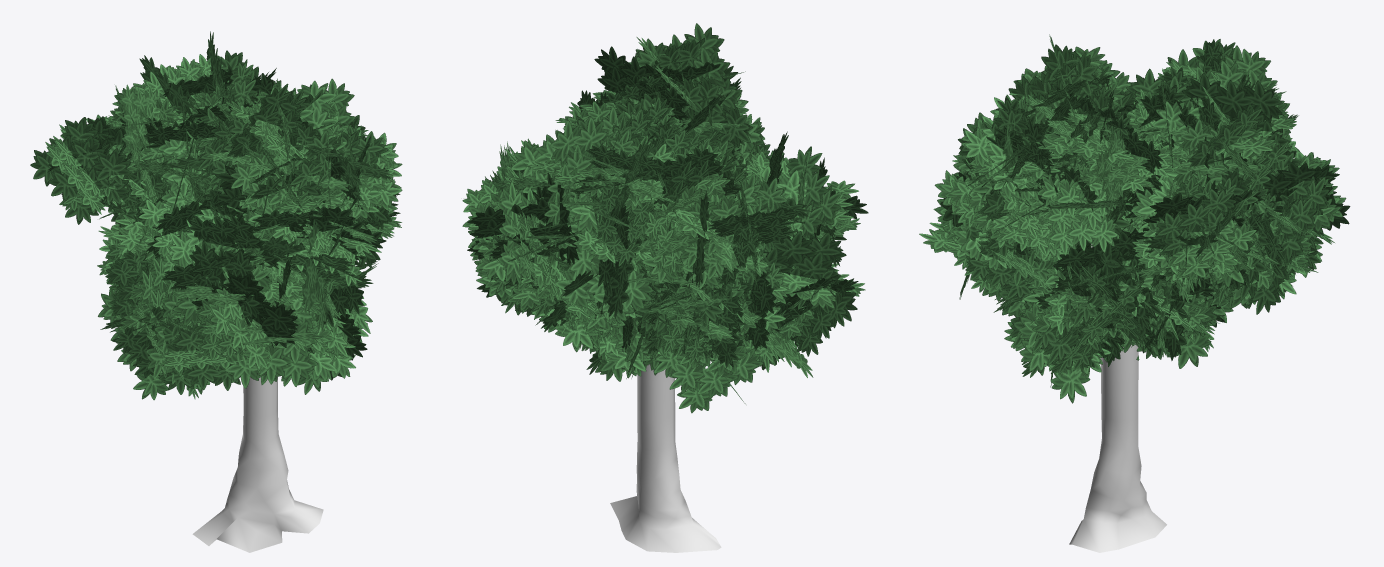
File: boom goed.fbx
The picture shows the model from 3 angles, left to right: view 1: azimuth 30°, elevation 25°; view 2: azimuth 150°, elevation 25°; view 3: azimuth 270°, elevation 25°; orthographic projection. The views are drawn at different scales.
Visible parts, largest first — view 1: bladlos.003, boomstam lowpoly; view 2: bladlos.003, boomstam lowpoly; view 3: bladlos.003, boomstam lowpoly.
Part boxes in pixels (x1,y1,x2,y2): bladlos.003: (30,31,402,400); boomstam lowpoly: (192,377,323,552); bladlos.003: (462,23,868,413); boomstam lowpoly: (610,363,721,552); bladlos.003: (919,34,1350,403); boomstam lowpoly: (1069,244,1166,552).
Size of the model in its own units: 4.24 by 5.87 by 4.71.
